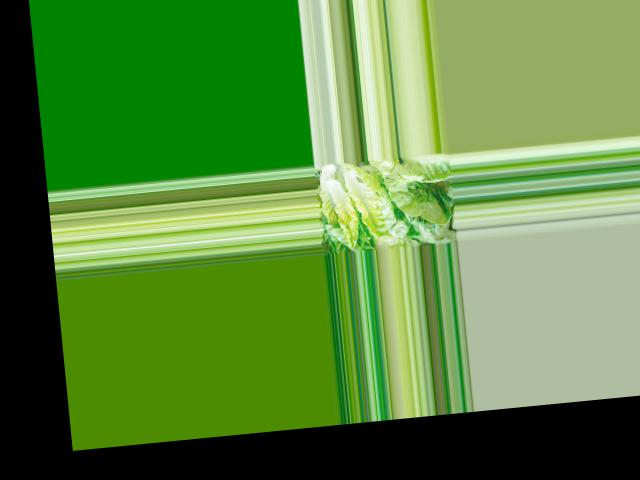lettuce: (316, 155, 411, 249)
